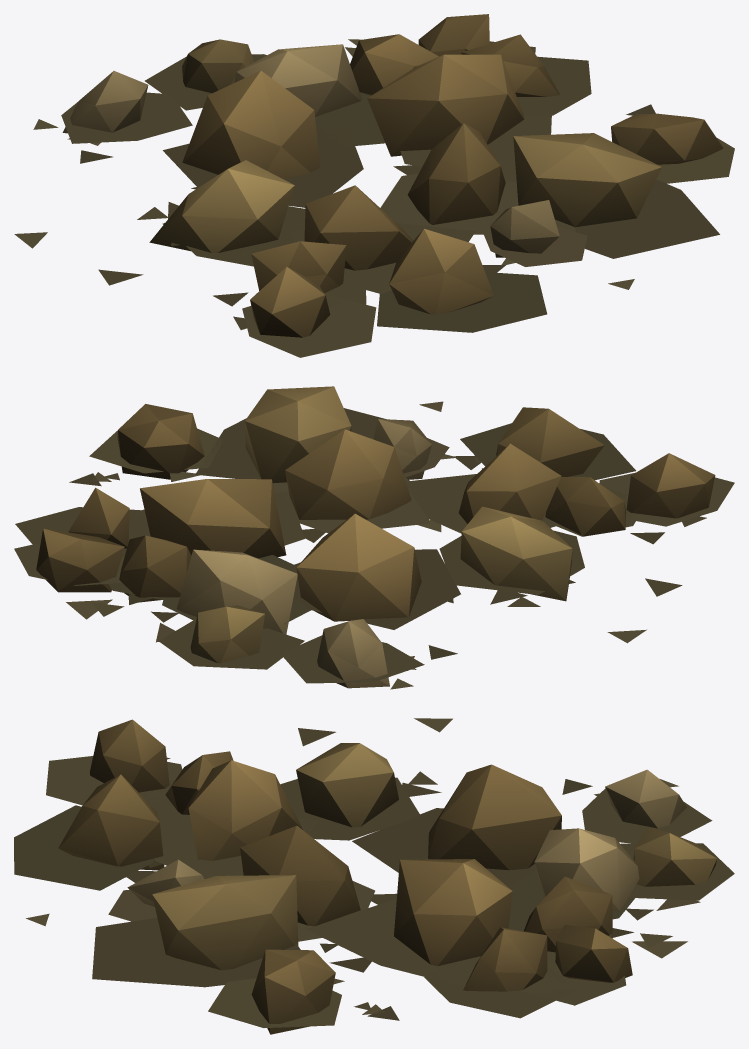
The model's file is stone-rich.glb.
3 renders of one model, top to bottom at view 1: azimuth 30°, elevation 25°; view 2: azimuth 150°, elevation 25°; view 3: azimuth 270°, elevation 25°, orthographic. The views are drawn at different scales.
Visible parts, largest first — view 1: stone-rich; view 2: stone-rich; view 3: stone-rich.
Boxes of the visible parts, x1,y1,x2,y2 form: stone-rich: (14, 14, 734, 357); stone-rich: (14, 386, 734, 689); stone-rich: (14, 718, 734, 1034).
Bounding box in the file's own units: 1.53 × 0.2326 × 1.5.
